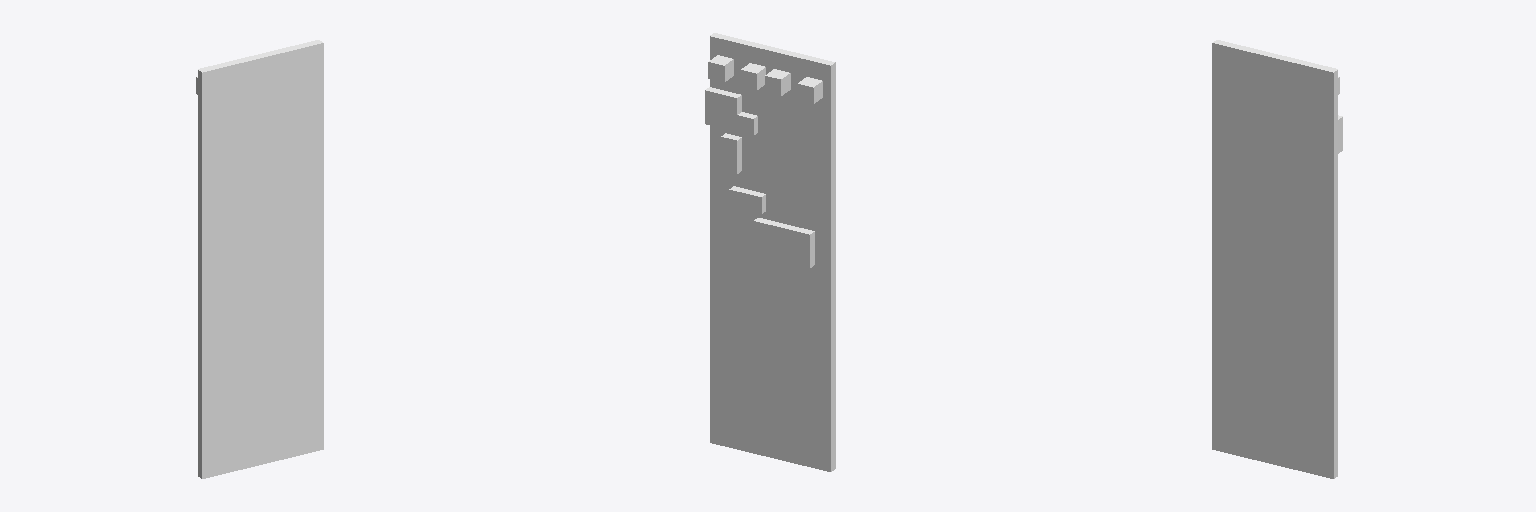
File: TinyBuilding01-3.obj
3 renders of one model, left to right at view 1: azimuth 30°, elevation 25°; view 2: azimuth 150°, elevation 25°; view 3: azimuth 330°, elevation 25°, orthographic.
Parts seen in each view (by area): view 1: object 1; view 2: object 1; view 3: object 1.
Boxes of the visible parts, x1=… form: object 1: x1=196, y1=40, x2=323, y2=478; object 1: x1=705, y1=33, x2=835, y2=471; object 1: x1=1212, y1=40, x2=1342, y2=478.
Bounding box in the file's own units: 1.5 × 4.8 × 0.3.